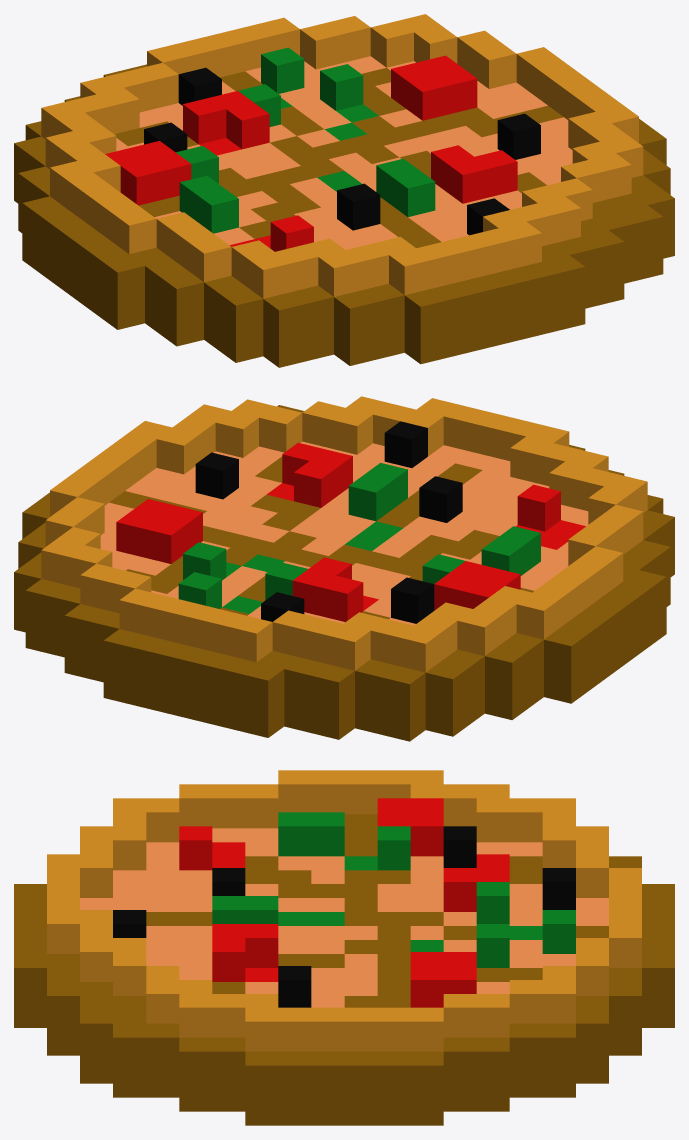
Rendered from pizza.obj.
The picture shows the model from 3 angles, top to bottom: view 1: azimuth 30°, elevation 25°; view 2: azimuth 150°, elevation 25°; view 3: azimuth 270°, elevation 25°; orthographic projection. The views are drawn at different scales.
Size of the model in its own units: 20 by 3 by 20.
